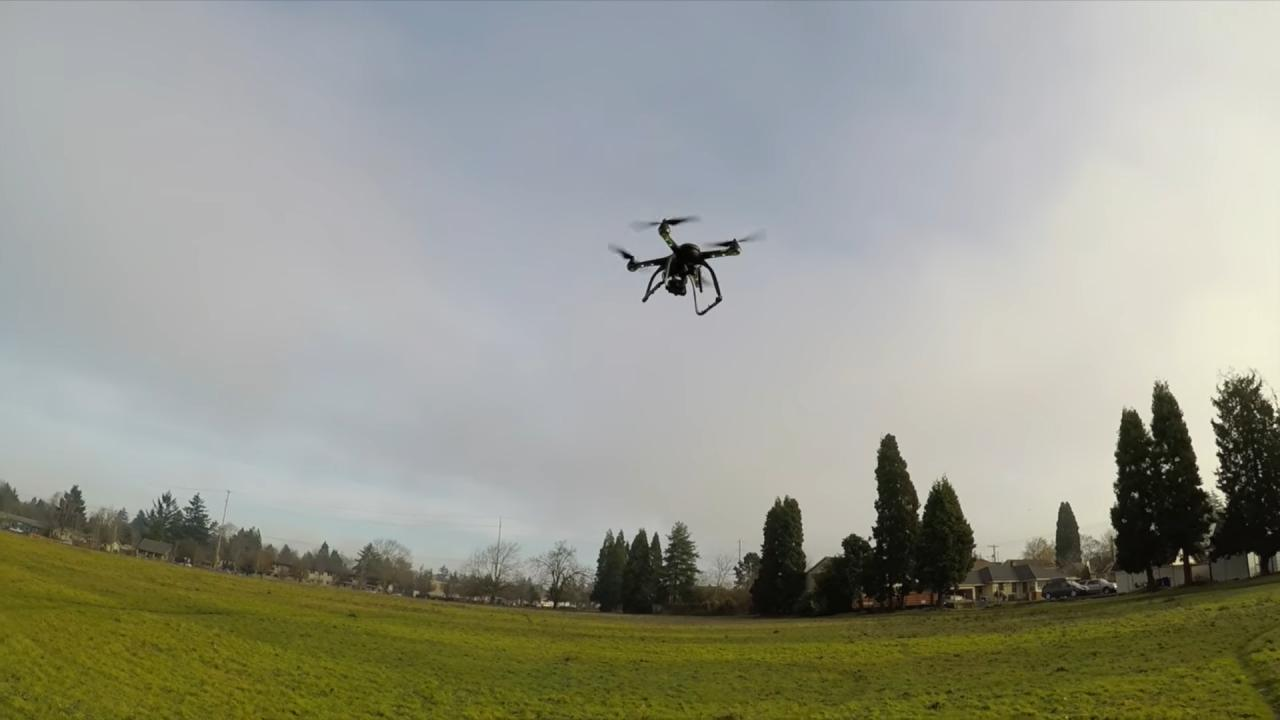Drone: (590, 205, 778, 328)
